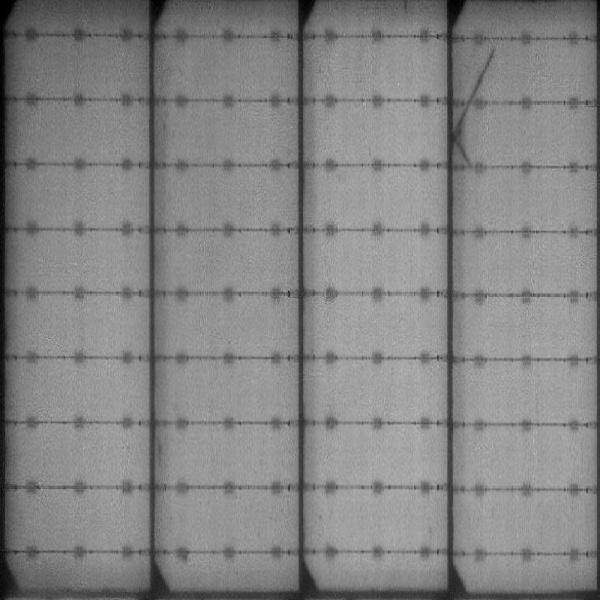broken: (451, 44, 503, 164)
